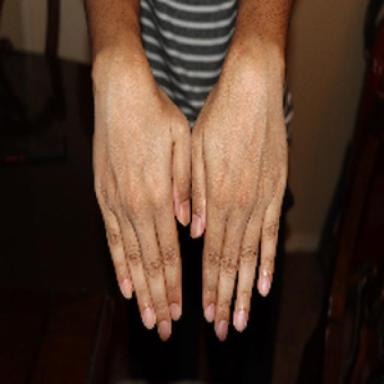normal skin: (87, 0, 190, 339), (191, 0, 290, 339)
